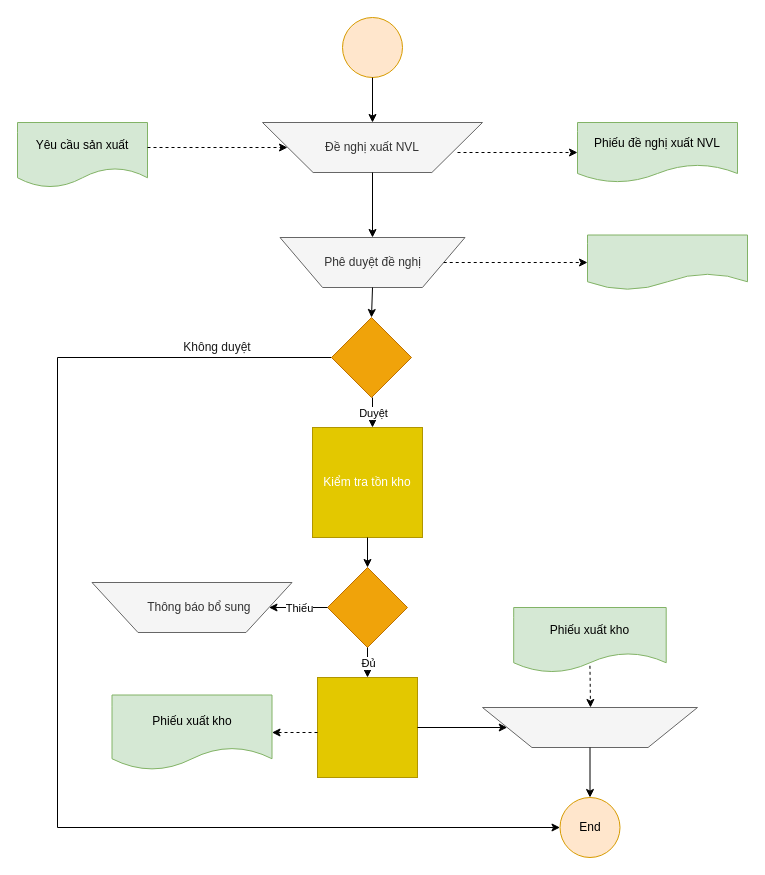
This 765x875 diagram has some shape labels left out. The centre of each missing label's shape, as x and y in pixels:
Begin: (x=372, y=47)
Lập giao dịch và in phiếu xuất kho: (x=367, y=727)
Phiếu đề nghị xuất NVL được phê duyệt: (x=667, y=262)
Xuất kho: (x=590, y=727)
